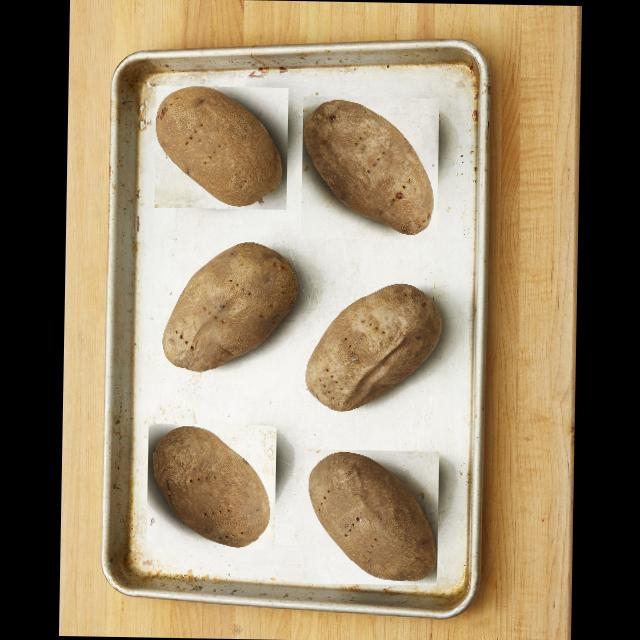Damaged potato: (301, 95, 438, 239), (302, 276, 441, 416), (159, 238, 304, 372), (302, 448, 438, 584), (154, 84, 288, 208), (146, 422, 276, 548)
